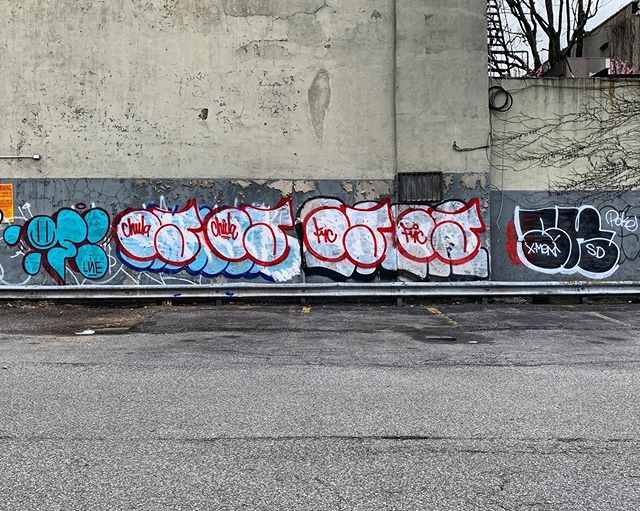graffiti: (1, 187, 640, 281)
street: (1, 307, 631, 511)
